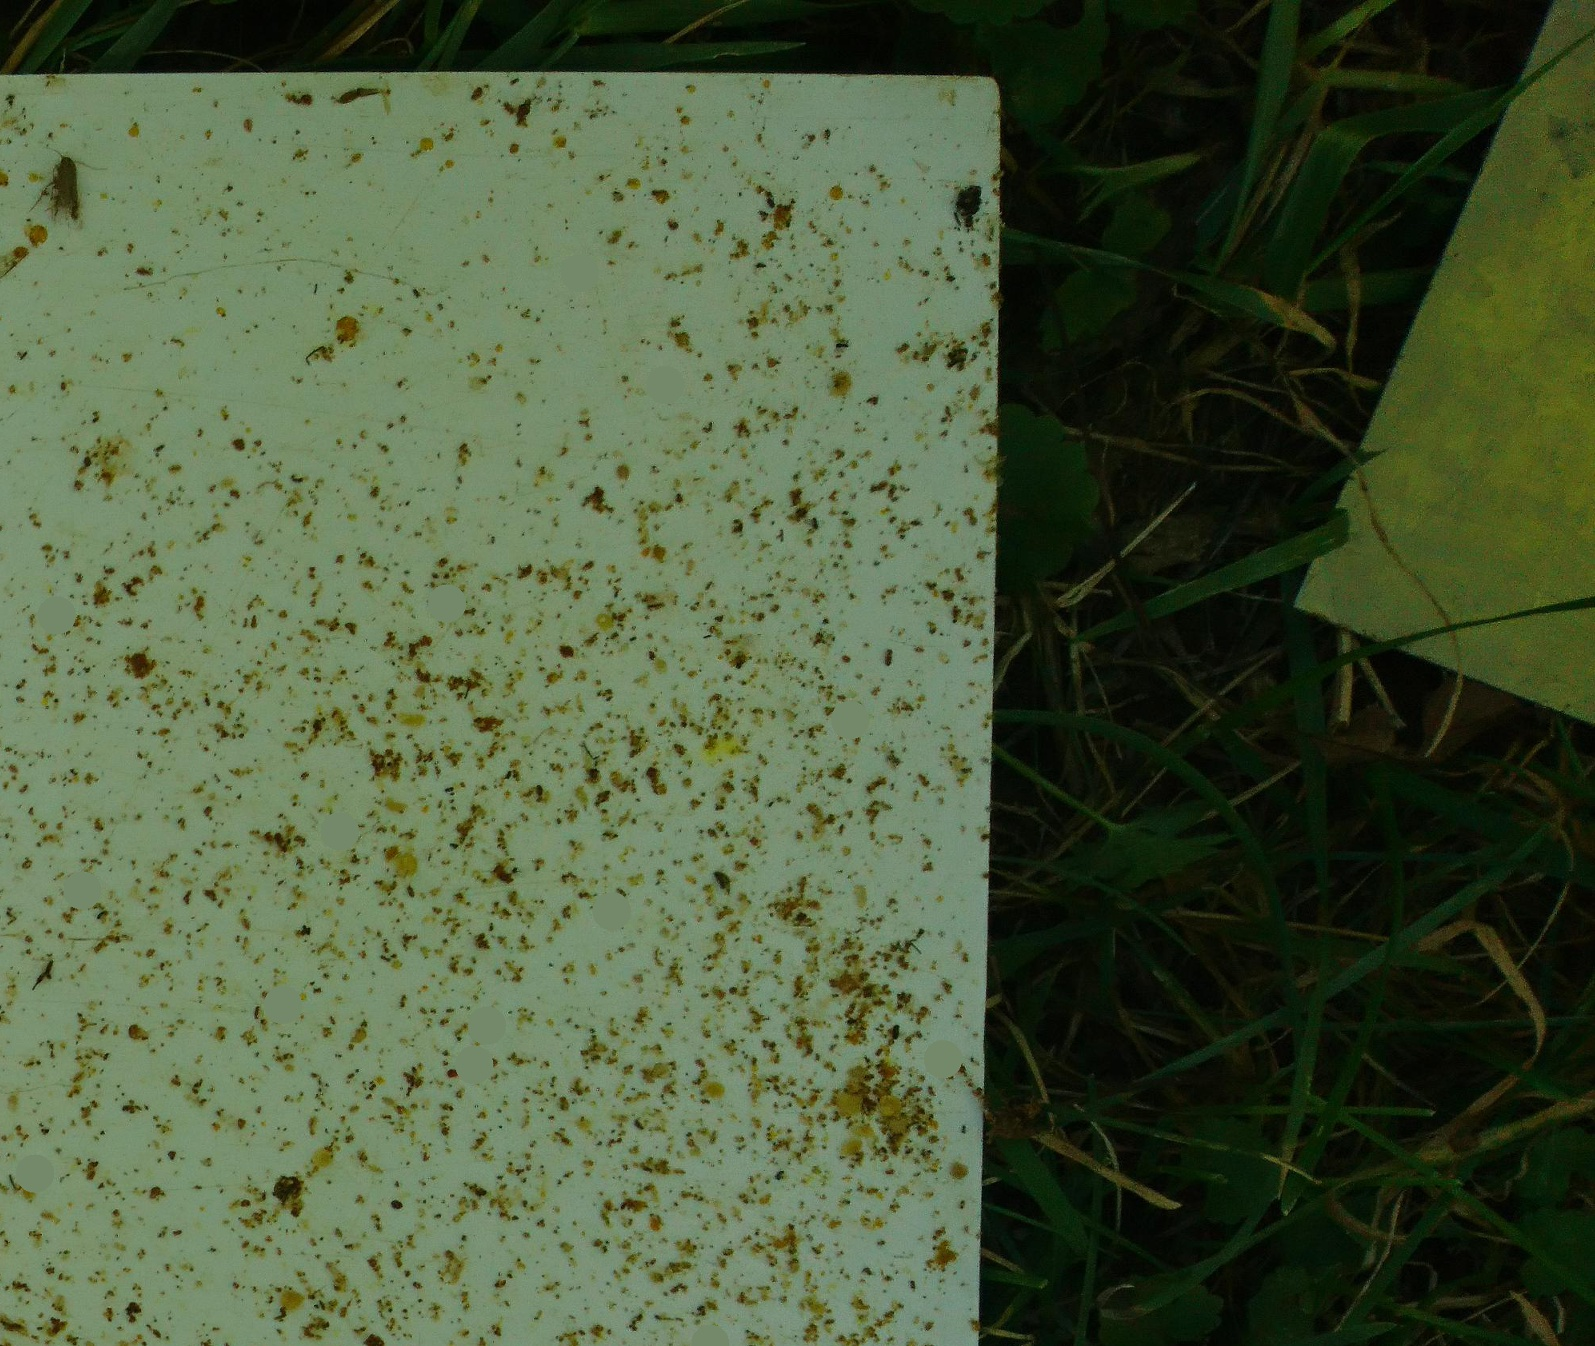Varroa: (390, 1198, 404, 1211)
